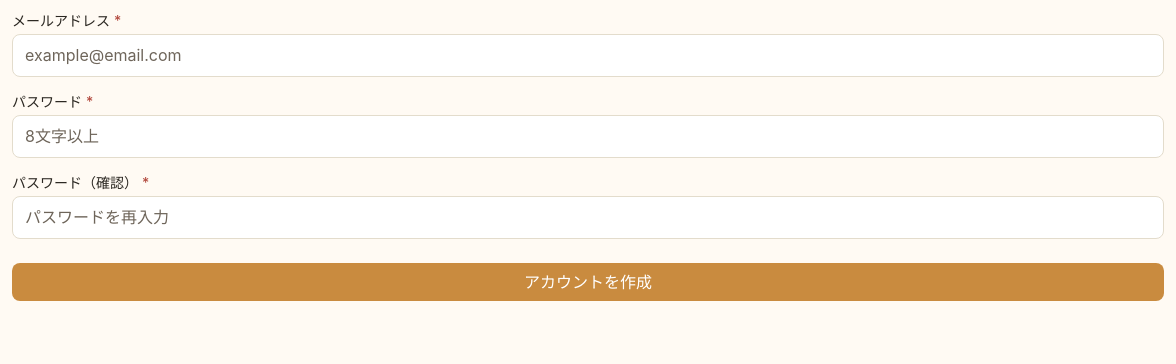
Scenario: SignupForm › バリデーション › 8文字未満のパスワードでエラーが表示される
In the field labelled "メールアドレス*": (588, 55) [13,34,1163,76], type "test@example.com"
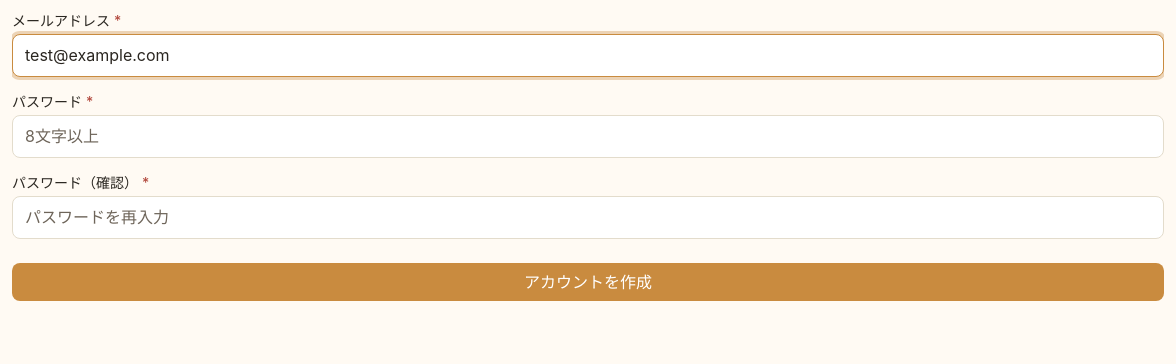
In the password field named "password": (588, 136) [13,116,1163,157], type "short"
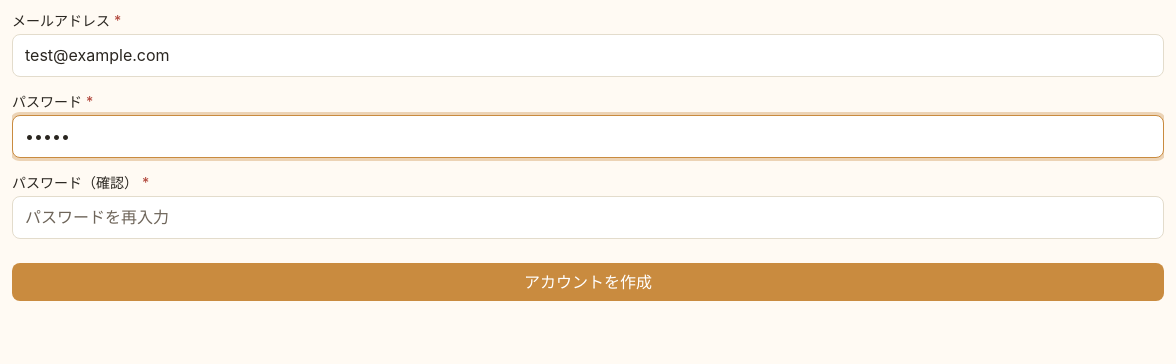
In the password field labelled "パスワード（確認）*": (588, 218) [13,197,1163,238], type "short"
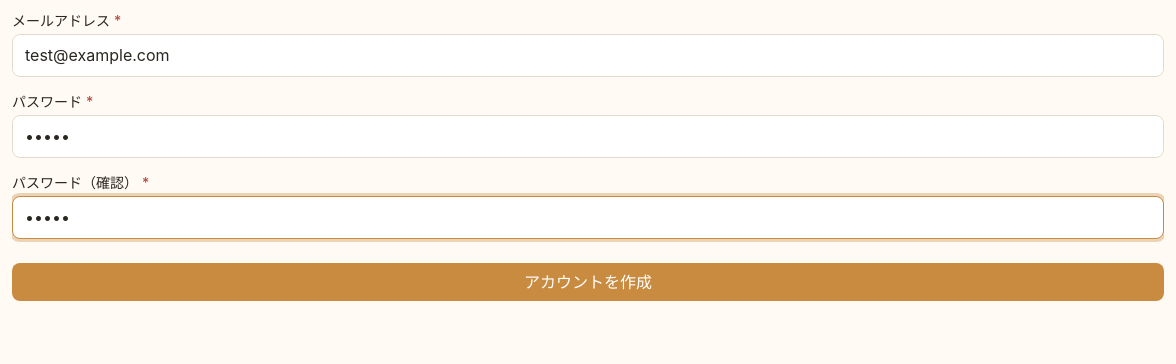
Click the button "アカウントを作成": (588, 282) [12,263,1164,301]
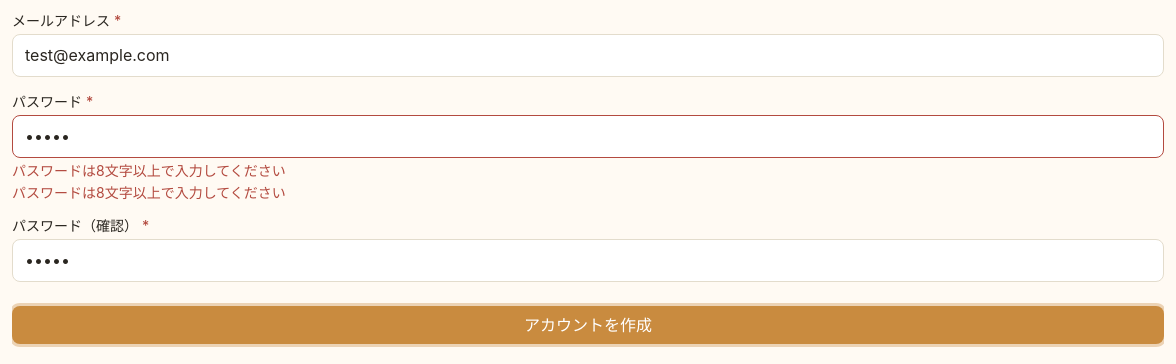
Now the 1st text "パスワードは8文字以上で入力してください" is shown, box [12,162,286,179]
